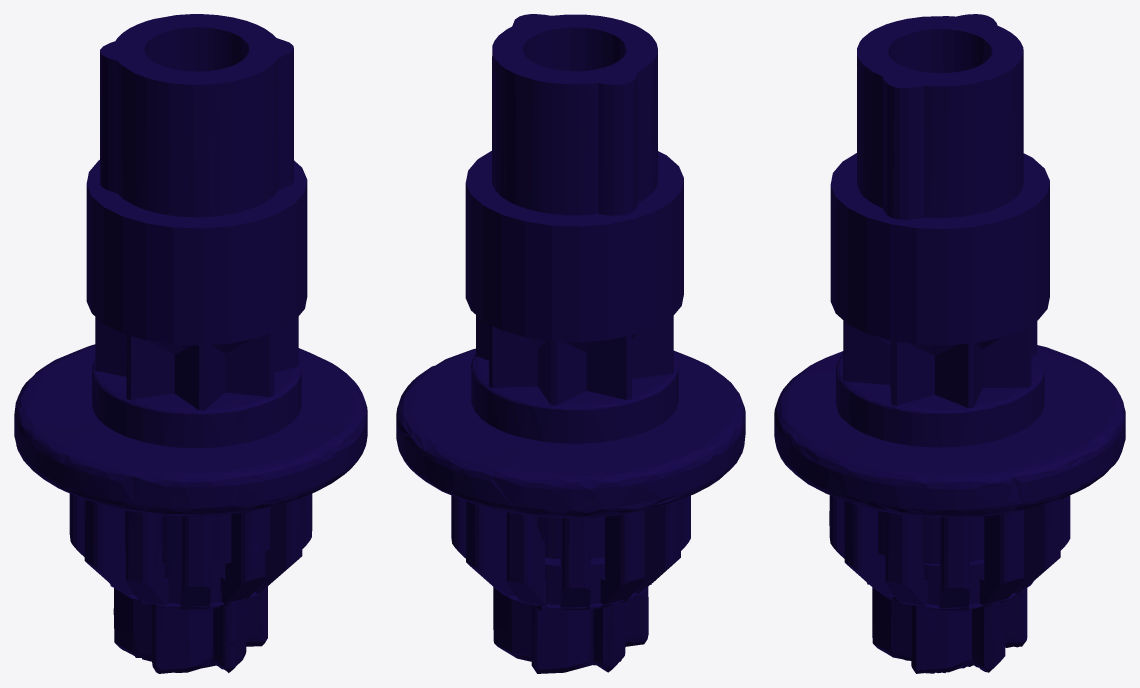
The model's file is cyclone_bit.obj.
3 views of the same model, side by side, from view 1: azimuth 30°, elevation 25°; view 2: azimuth 150°, elevation 25°; view 3: azimuth 270°, elevation 25° (orthographic).
Parts seen in each view (by area): view 1: C.004; view 2: C.004; view 3: C.004.
Part boxes in pixels (x1,y1,x2,y2): C.004: [14, 14, 367, 673]; C.004: [396, 14, 745, 673]; C.004: [774, 14, 1125, 673].
Bounding box in the file's own units: 0.1919 × 0.36 × 0.192.
